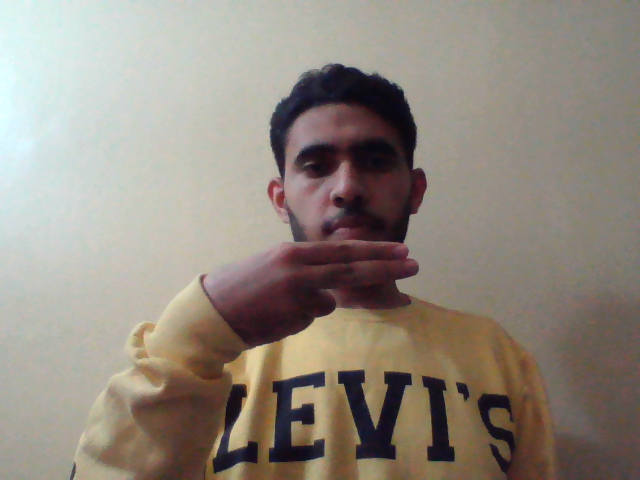H: (184, 233, 421, 357)
